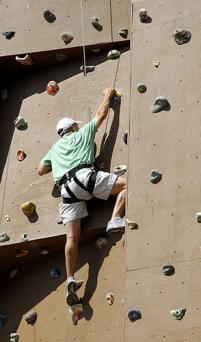person: (39, 87, 127, 306)
